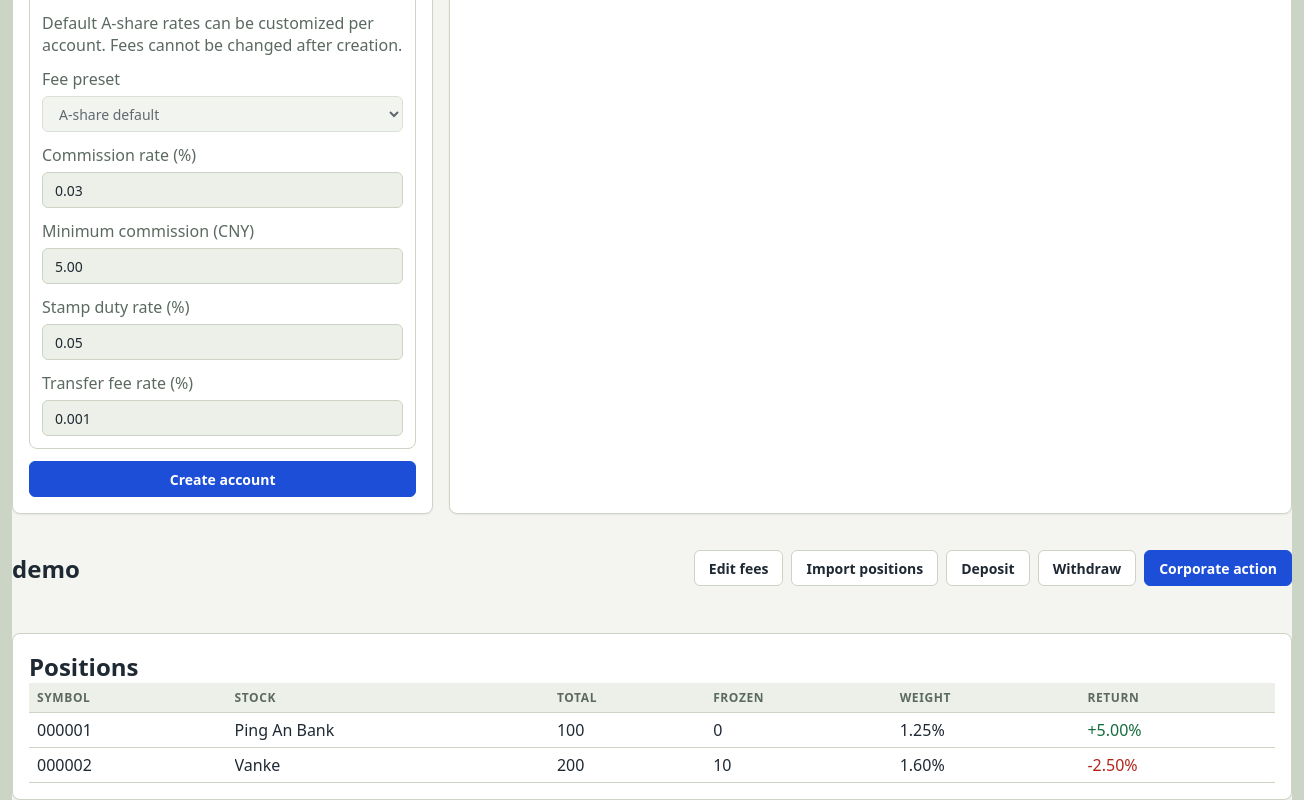
Test case: AccountsPage › resets position sorting when switching accounts
(page scrolled)
Click the button "Symbol".
click(64, 697)  # box x1=37 y1=689 x2=90 y2=706
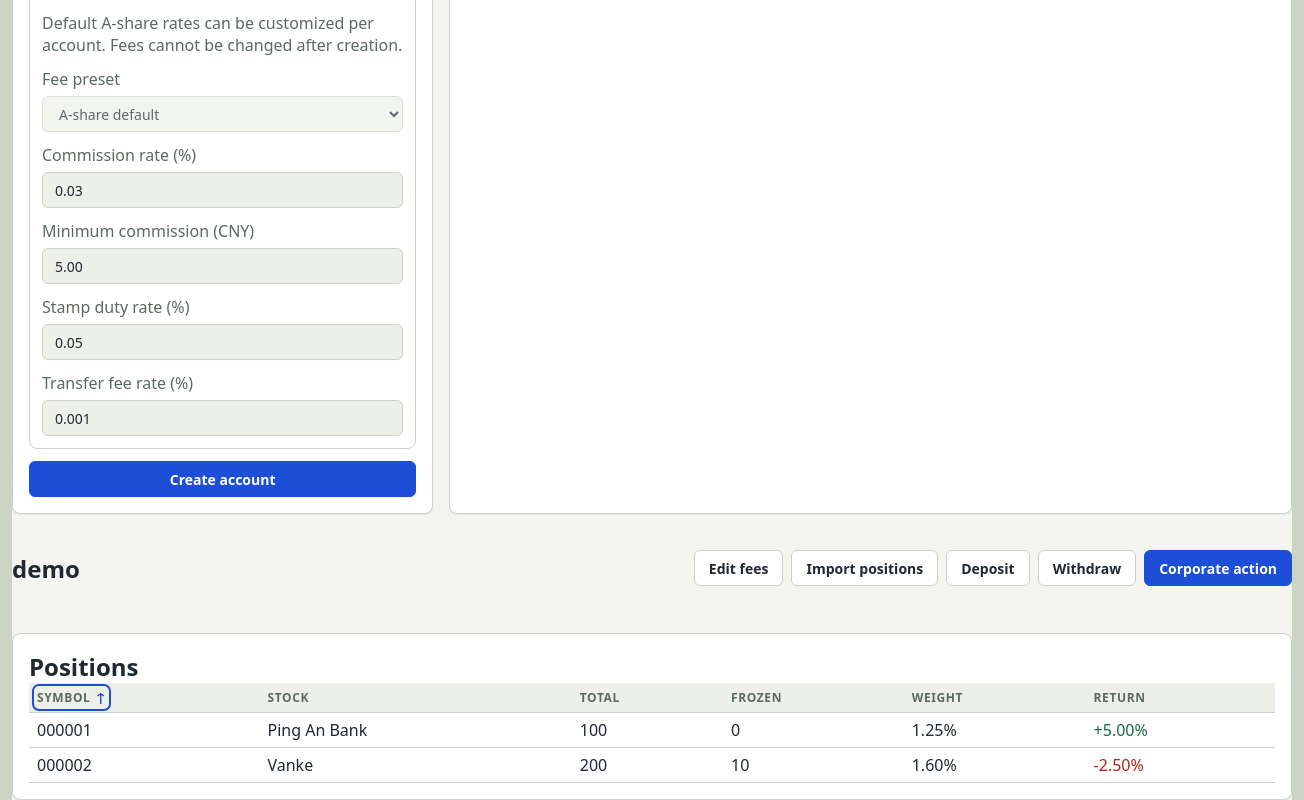
Click the button "Symbol ↑".
click(72, 697)  # box x1=37 y1=689 x2=106 y2=706
(page scrolled)
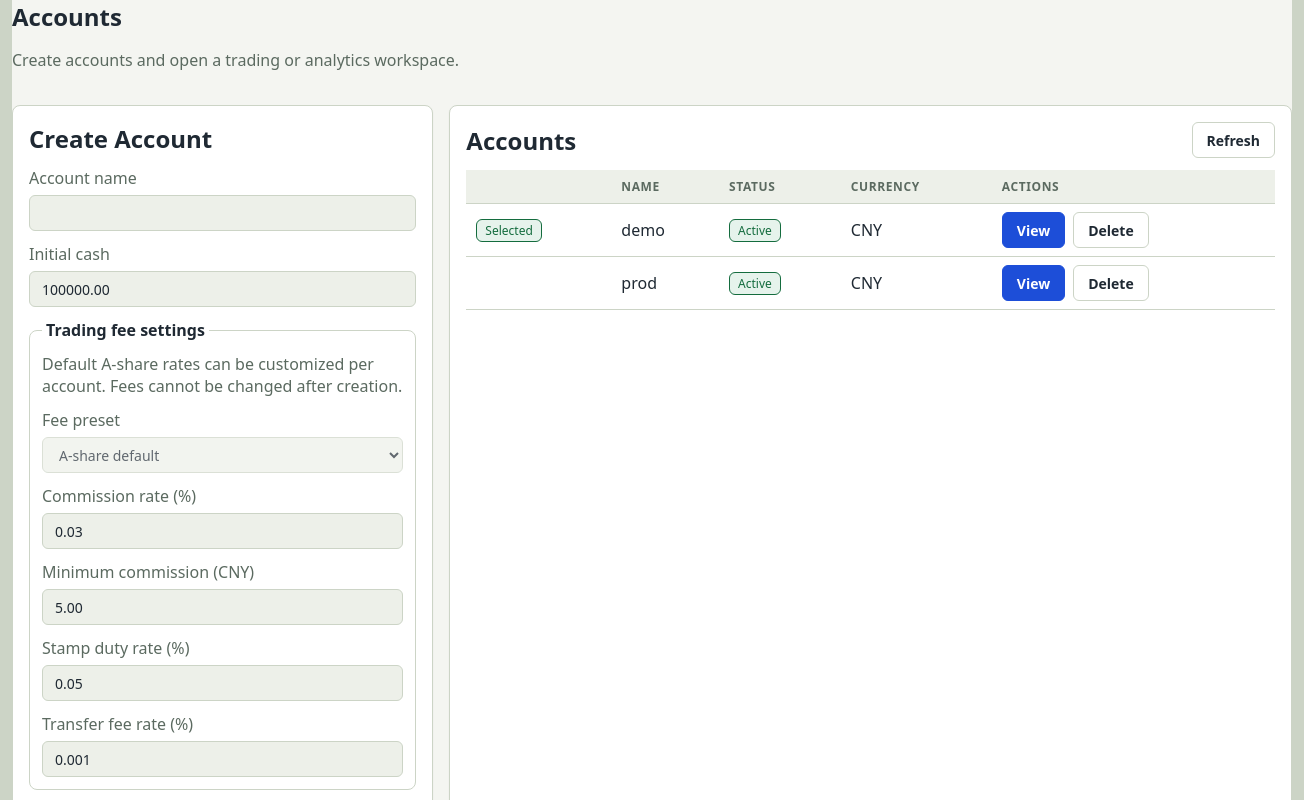
Click the button with aria-label "View prod".
click(1034, 283)  # box x1=1002 y1=265 x2=1065 y2=301
(page scrolled)
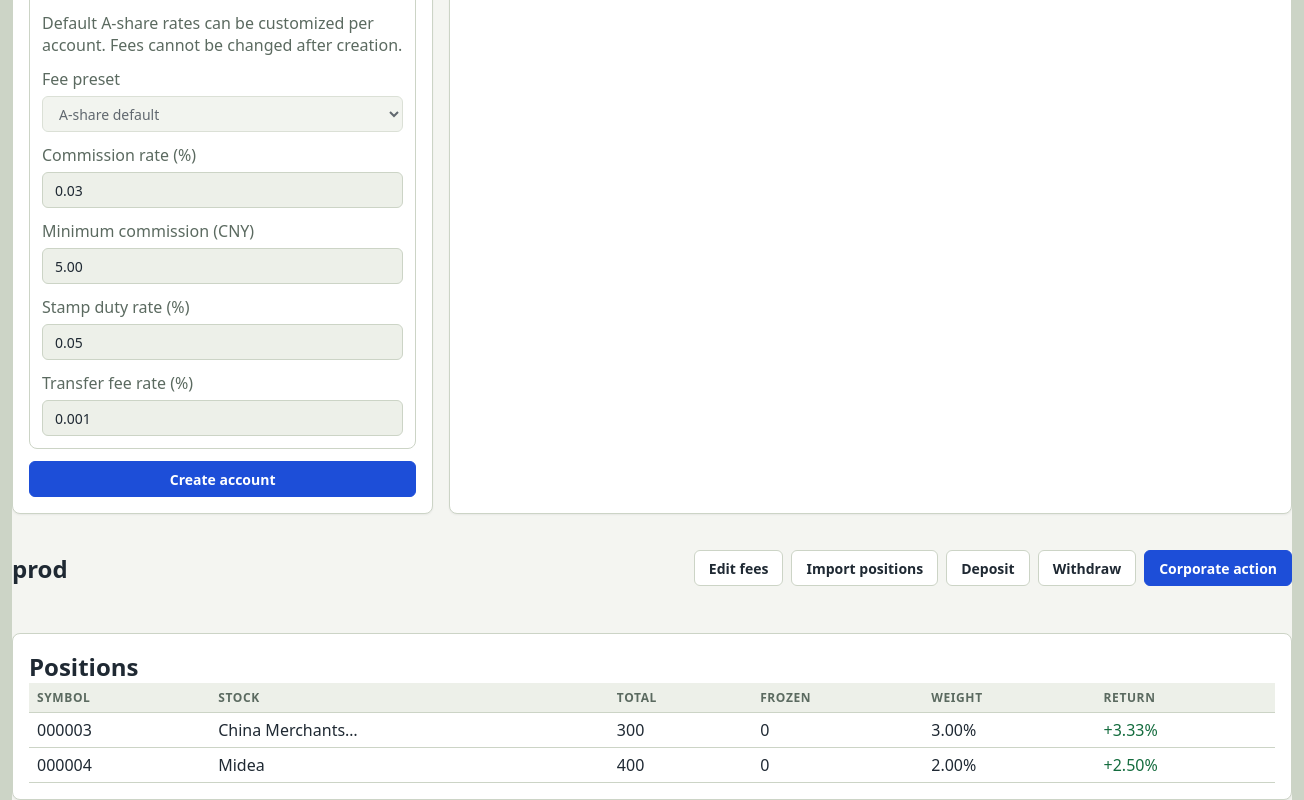
Check: the row "000003 China Merchants Bank 300 0 3.00% +3.33%" is shown, box x1=29 y1=712 x2=1275 y2=747
Check: the row "000004 Midea 400 0 2.00% +2.50%" is shown, box x1=29 y1=747 x2=1275 y2=782
